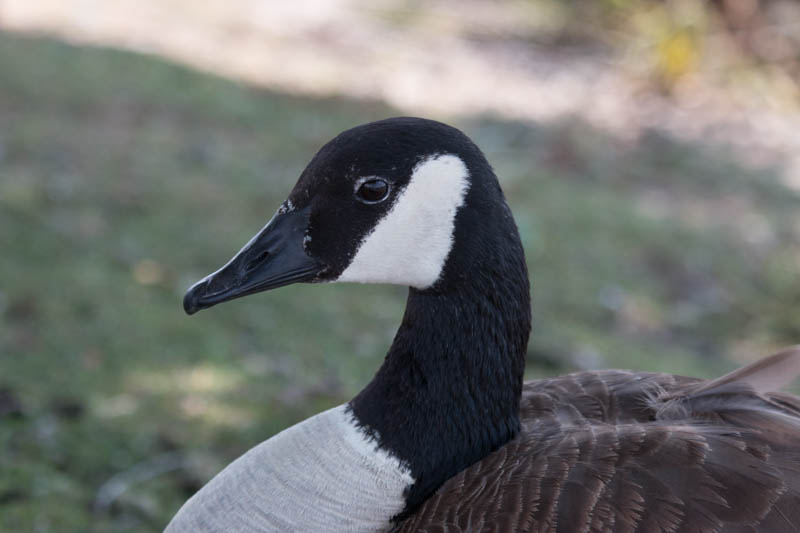goose-head: (182, 116, 531, 316)
